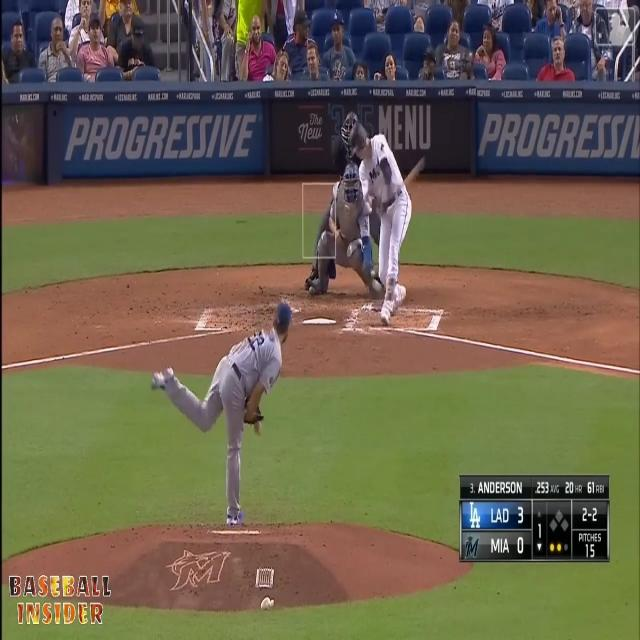baseball: (371, 277, 382, 292)
